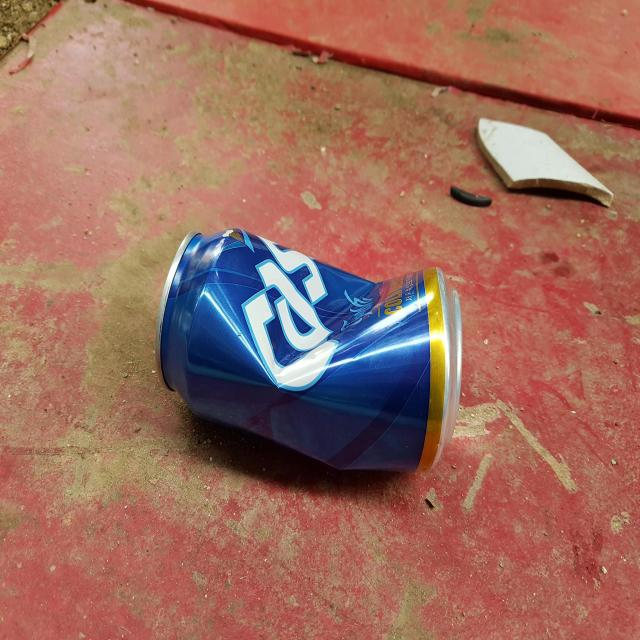can: (155, 228, 463, 471)
